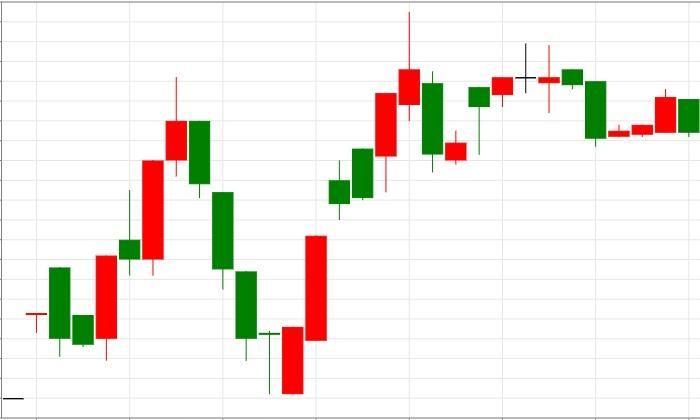three_black_crows_fall: (71, 77, 258, 362)
